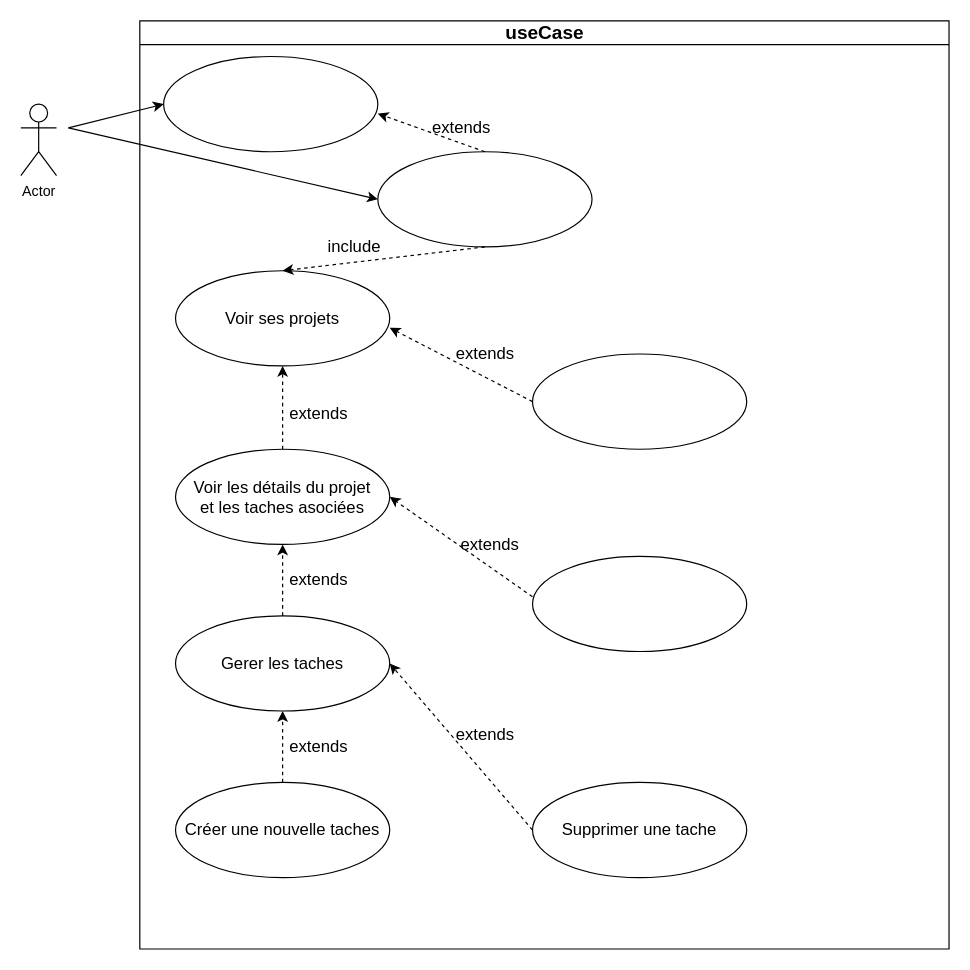
The diagram is 970 pixels wide and 970 high, and some of its shapes have lost their labels. Each missing label, with the centre of its shape:
Créer un compte utilisateur: pixel 270 103
Créer un nouveau projet: pixel 639 401
Se connecter à son compte: pixel 484 199
Supprimer un projet: pixel 639 603
